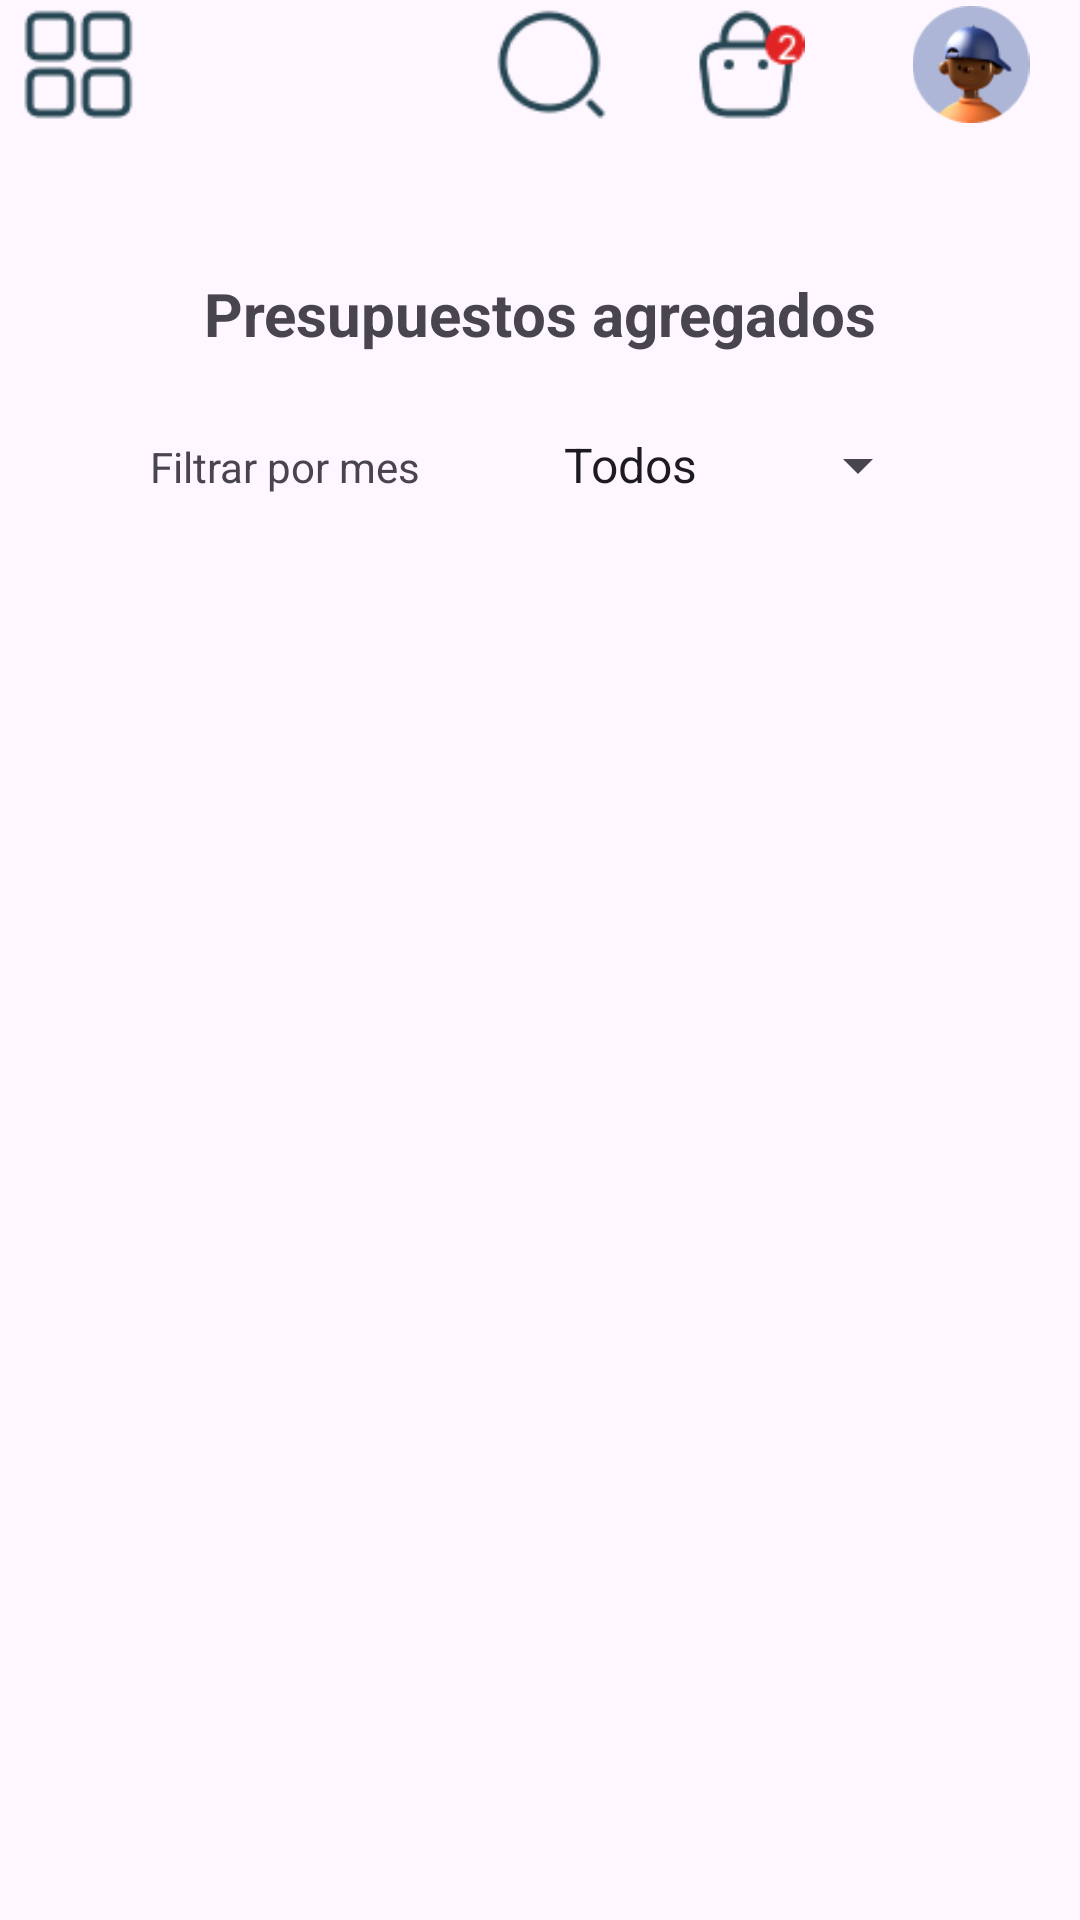

Icon click points for this 1080w x 1920h phone screenshot, format [x,y]:
bag: [752,64]
element: [78,64]
searchnormal: [551,64]
